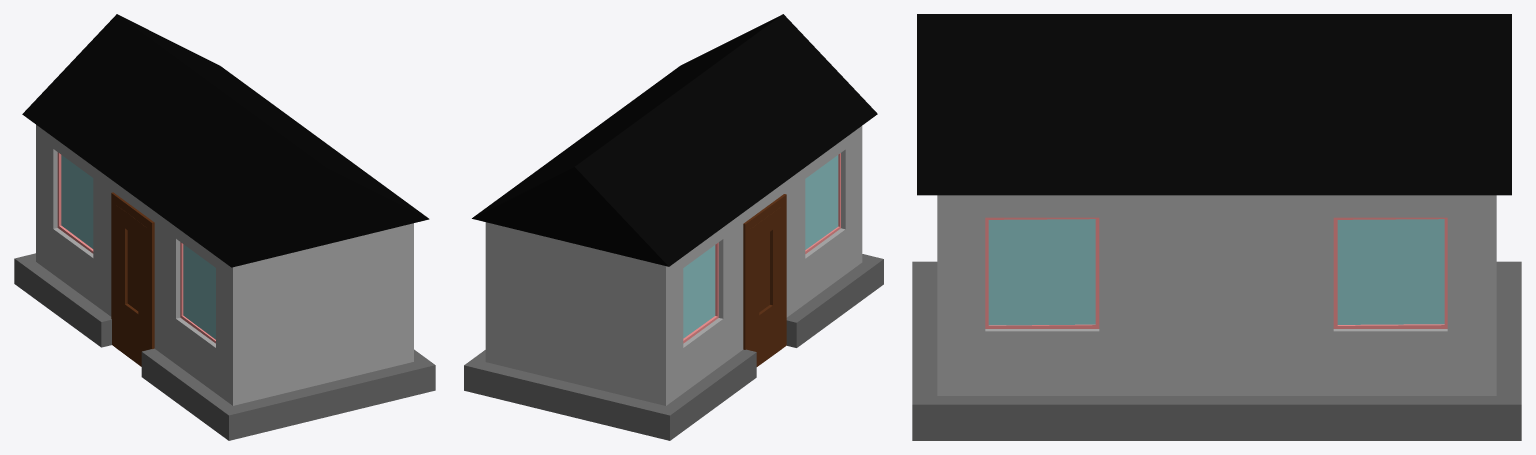
The model's file is tualet2.FBX.
3 renders of one model, left to right at view 1: azimuth 30°, elevation 25°; view 2: azimuth 150°, elevation 25°; view 3: azimuth 270°, elevation 25°, orthographic. The views are drawn at different scales.
Visible parts, largest first — view 1: Prism01, Box01, Box03, PivotDoor01, Box08, Box07; view 2: Prism01, Box01, Box03, PivotDoor01, Box08, Box07; view 3: Prism01, Box01, Box03, Box06, Box05.
Part boxes in pixels (x1,y1,x2,y2): Prism01: (22,14,429,267); Box01: (36,125,413,405); Box03: (14,253,435,440); PivotDoor01: (111,192,154,366); Box08: (183,244,215,339); Box07: (61,155,93,248); Prism01: (472,14,877,266); Box01: (485,126,862,405); Box03: (464,254,883,440); PivotDoor01: (743,194,786,366); Box08: (805,155,838,249); Box07: (683,245,715,338); Prism01: (917,14,1511,195); Box01: (937,195,1496,395); Box03: (912,261,1521,440); Box06: (988,219,1095,325); Box05: (1337,219,1444,324).
Size of the model in its own units: 51.53 by 59.18 by 92.66.
